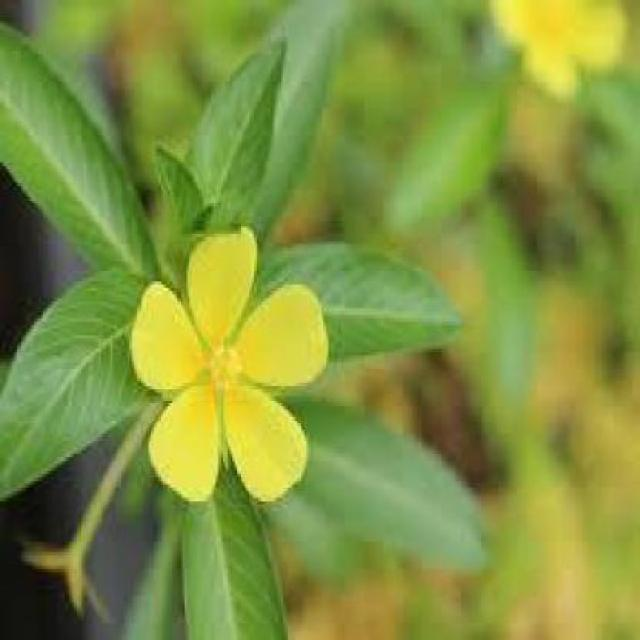flower: (128, 227, 320, 495)
